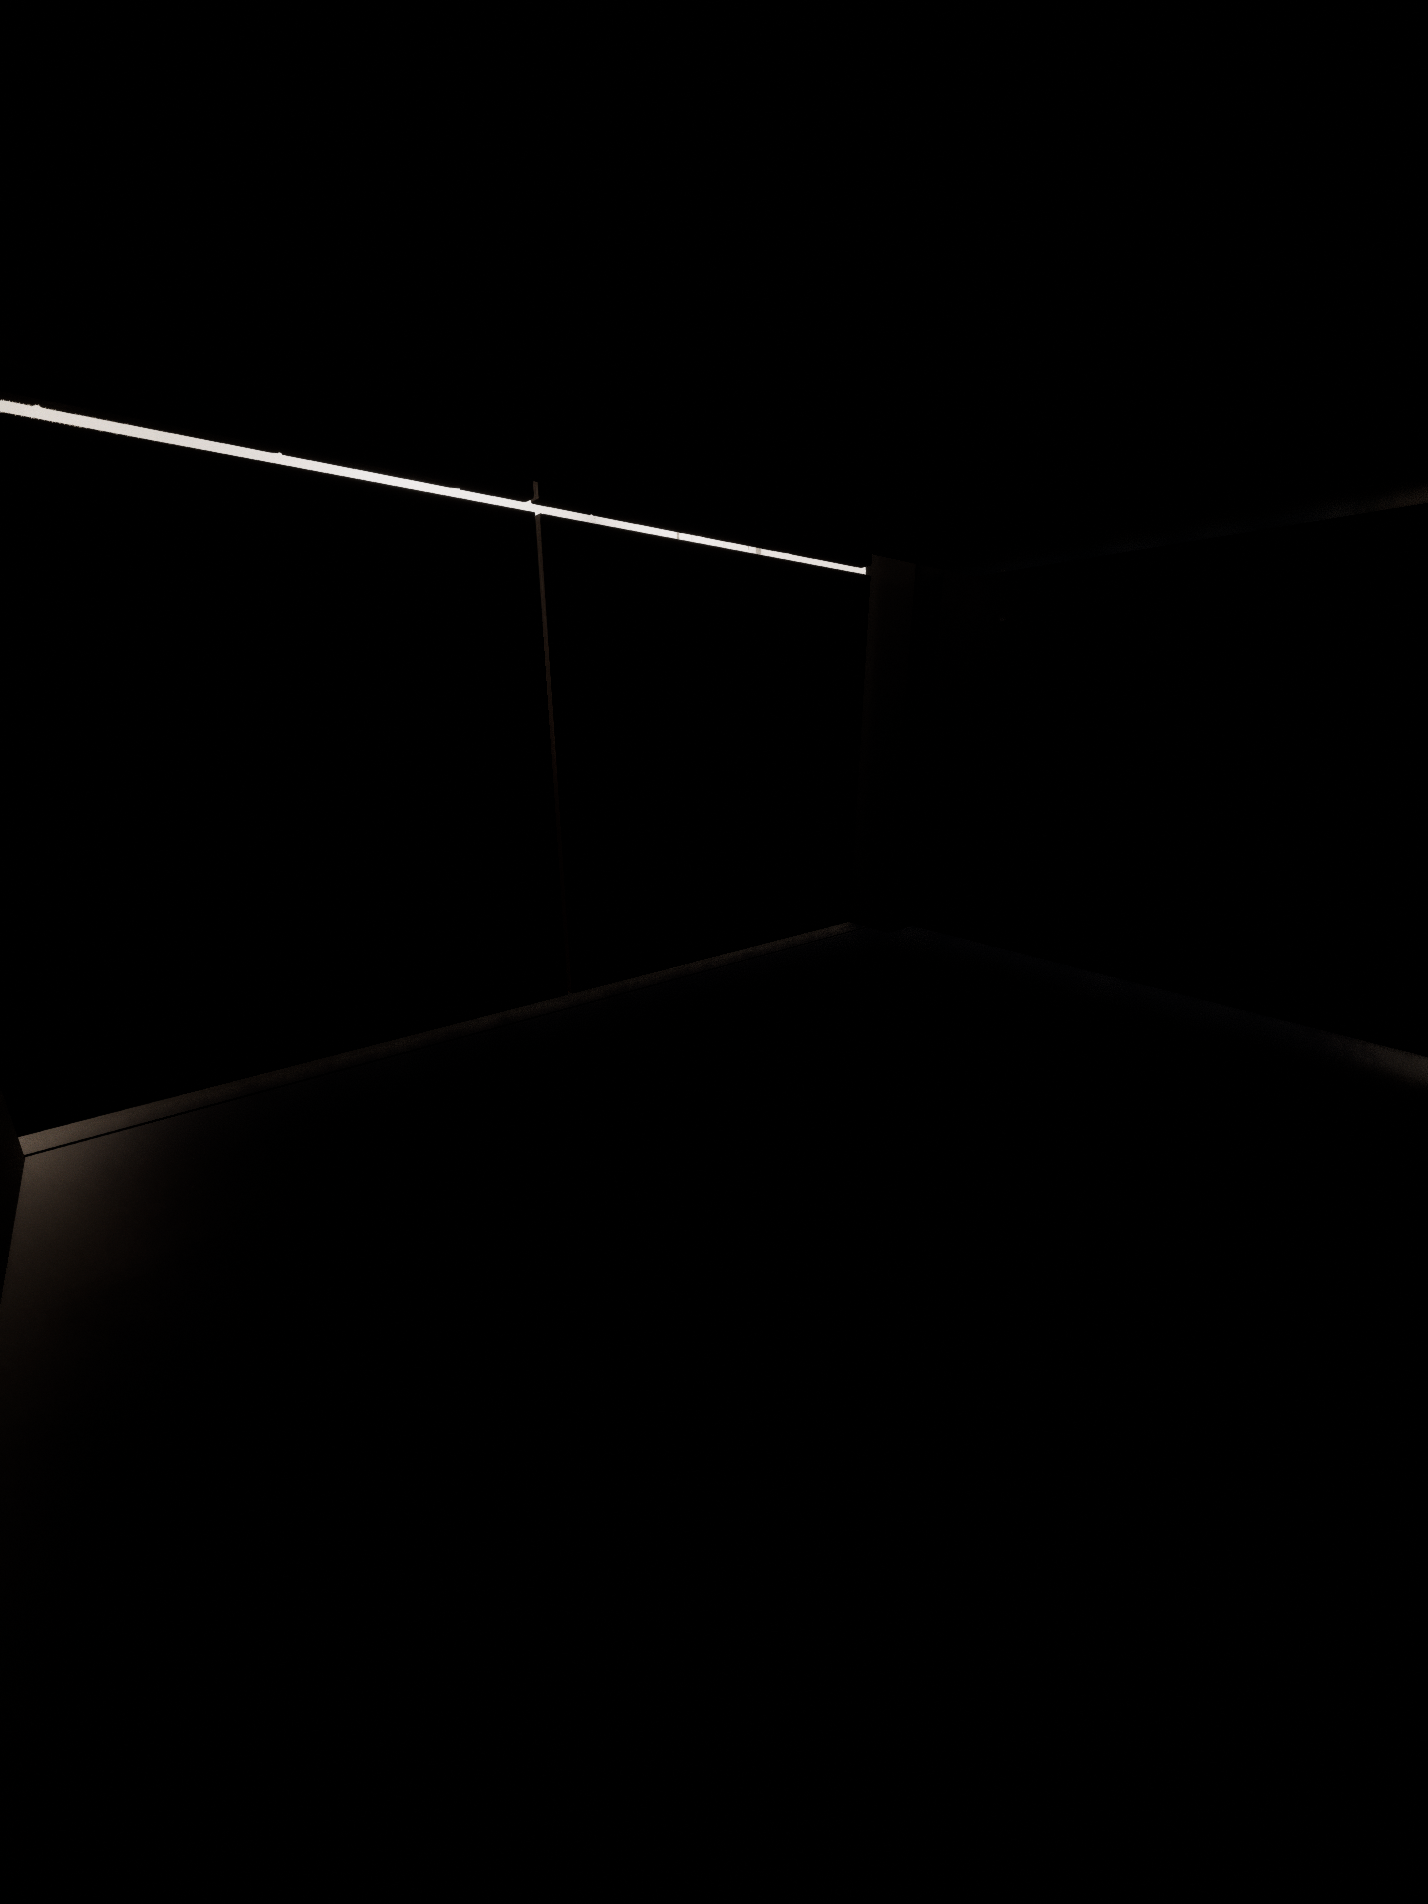soup: (657, 989, 736, 1126)
